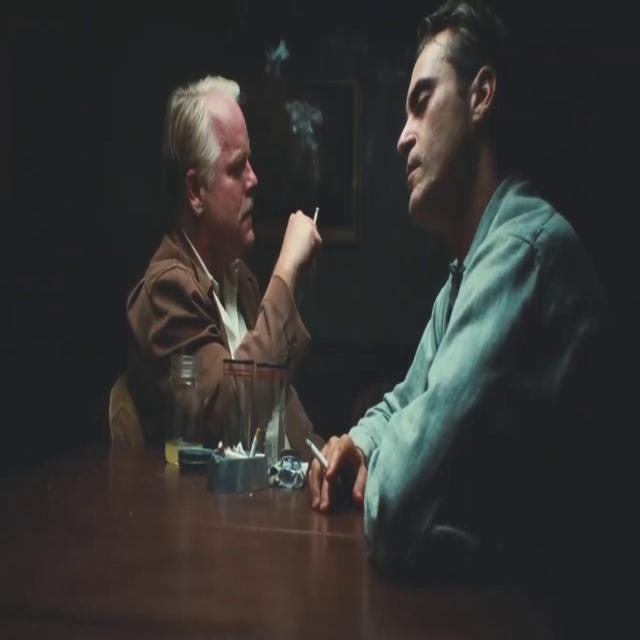Smooking: (302, 434, 330, 470), (310, 200, 322, 230)
